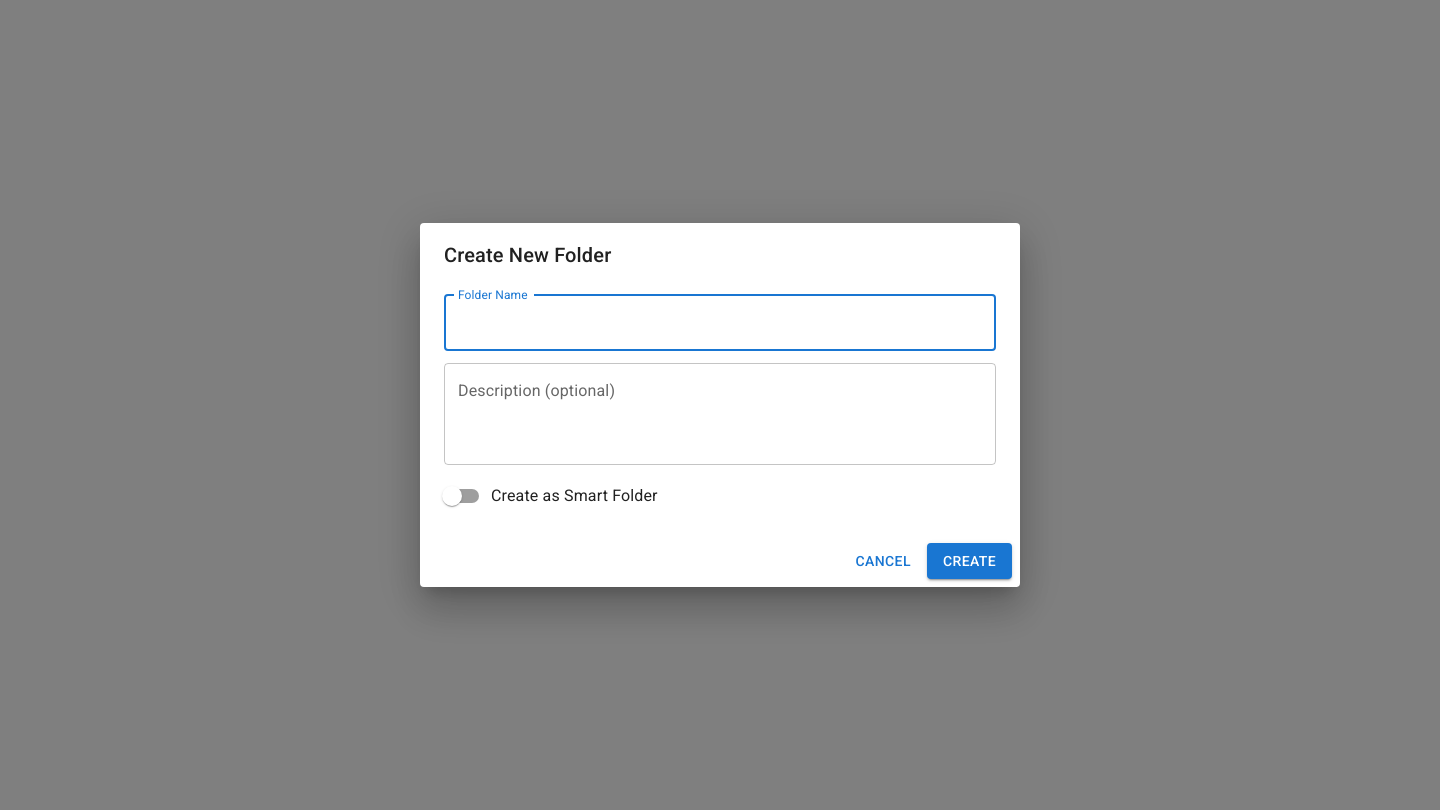
Test: CreateFolderDialog smart authoring › rejects smart-folder submit when query is missing
This screenshot has width=1440, height=810.
In the field labelled "Folder Name": [720, 323] box left=444, top=295, right=996, bottom=351, type "Smart Invoices"
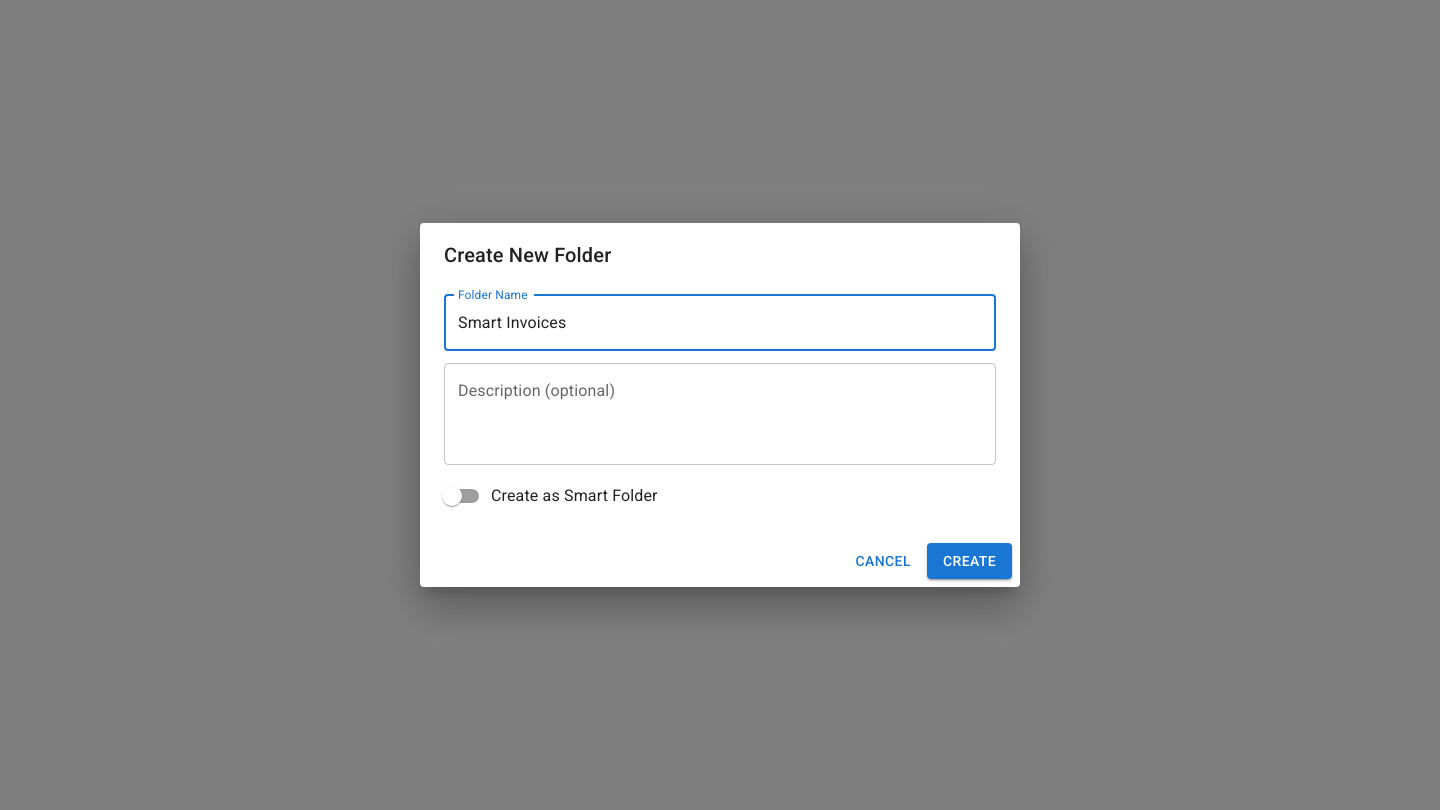
Click the checkbox labelled "Create as Smart Folder": [550, 496] box left=442, top=486, right=658, bottom=506
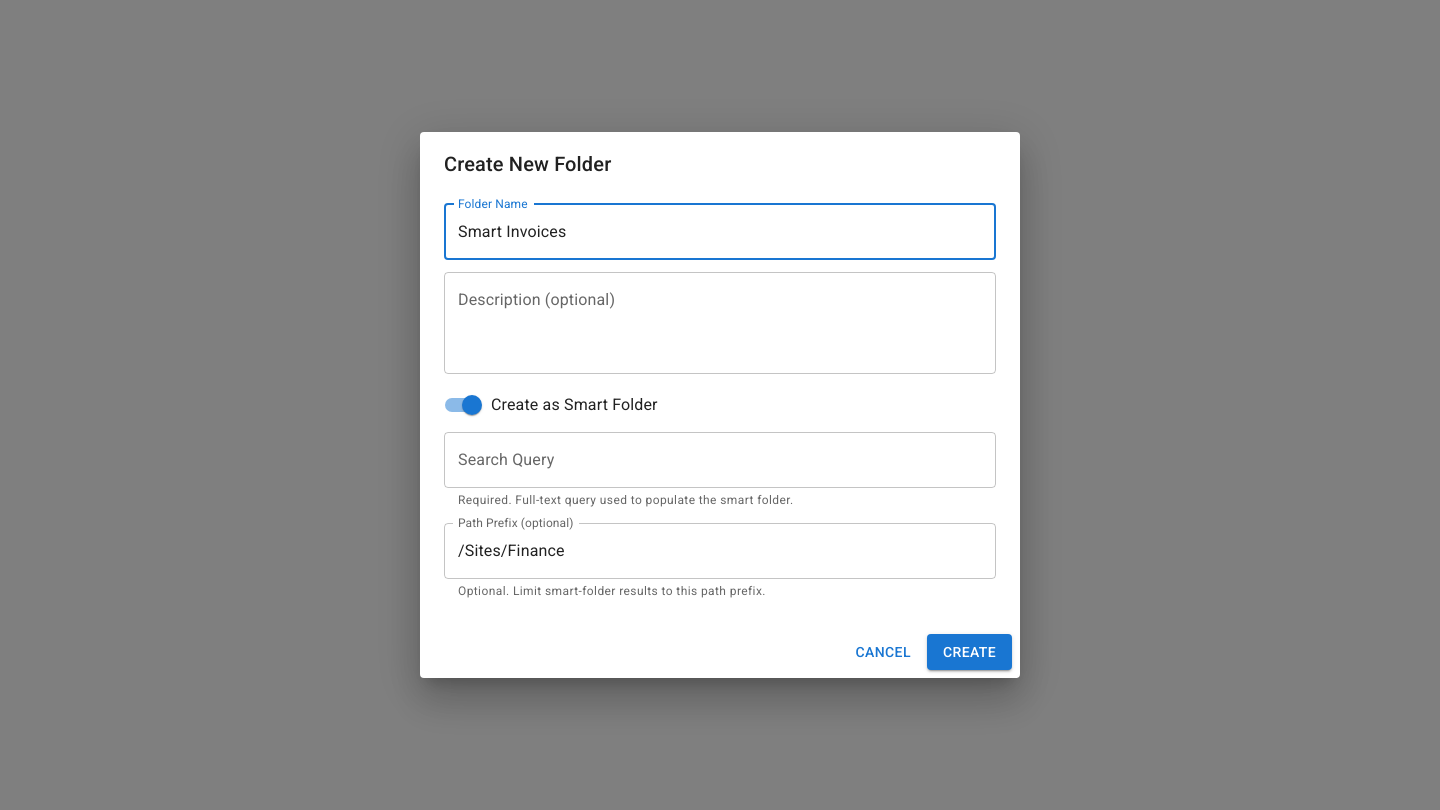
Click the button "Create": [969, 652] box left=927, top=634, right=1012, bottom=670
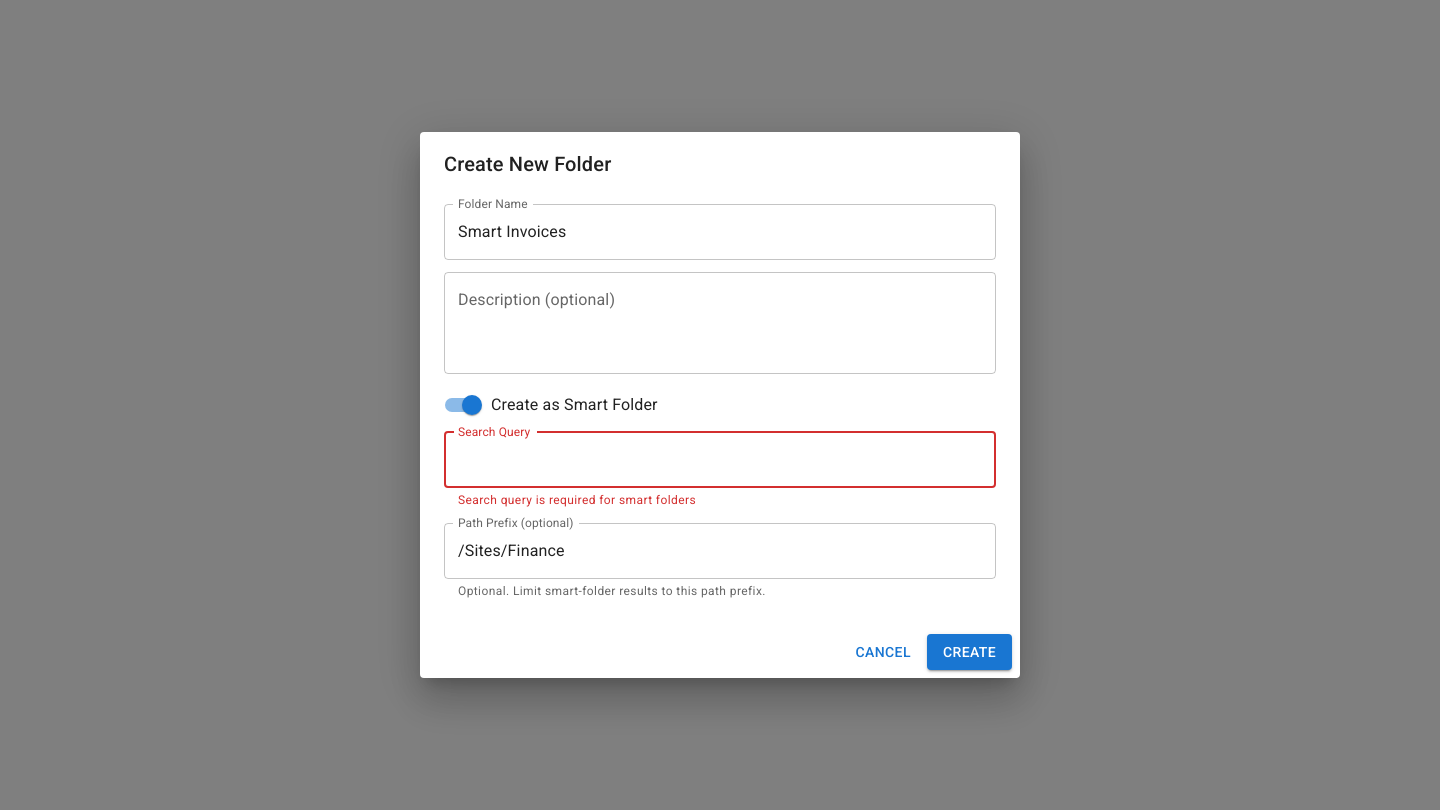
Expected: the text "Search query is required for smart folders" is shown, left=458, top=493, right=696, bottom=507
